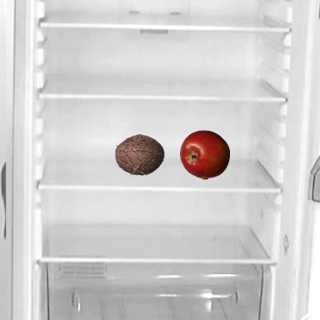Apple Braeburn: (179, 129, 229, 179)
Cocos: (114, 129, 164, 179)
